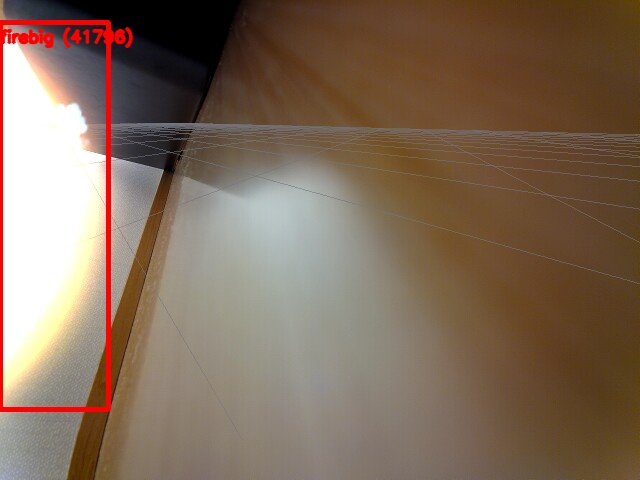firebig: (0, 22, 108, 409)
